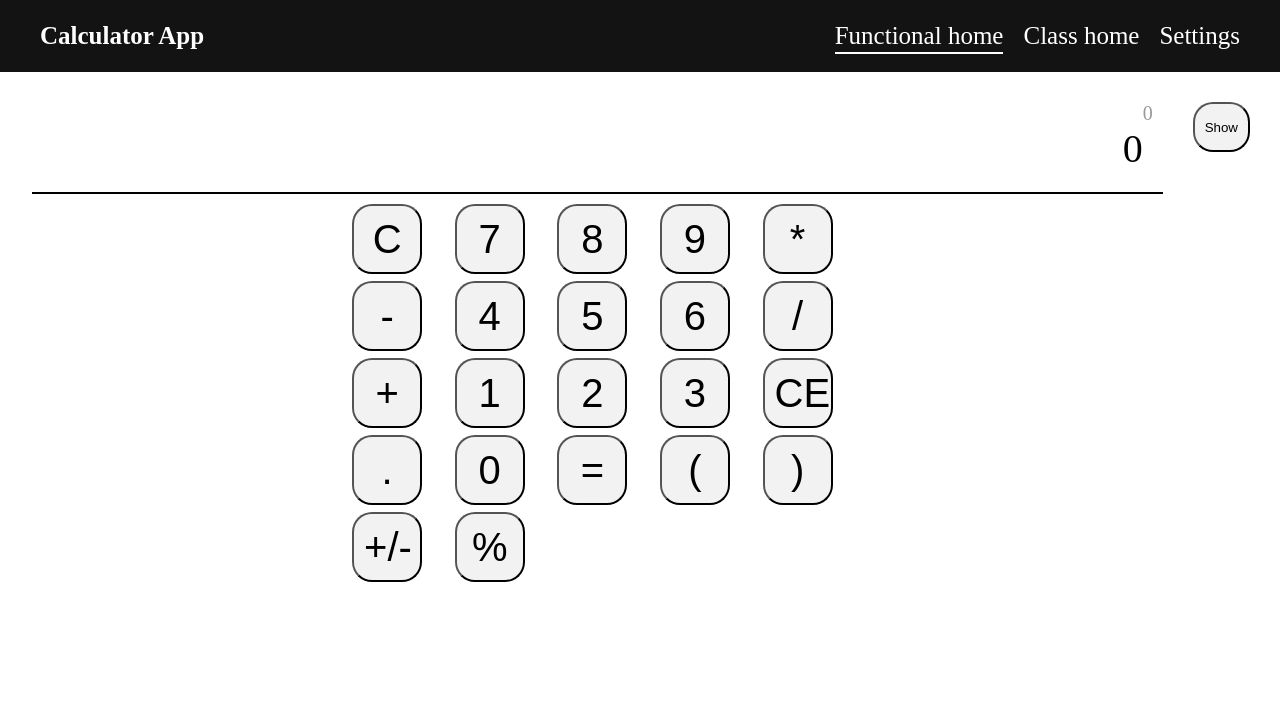
checkArithmetical › basicTestWithDivision
Click the button "3": (695, 393) [660,358,730,428]
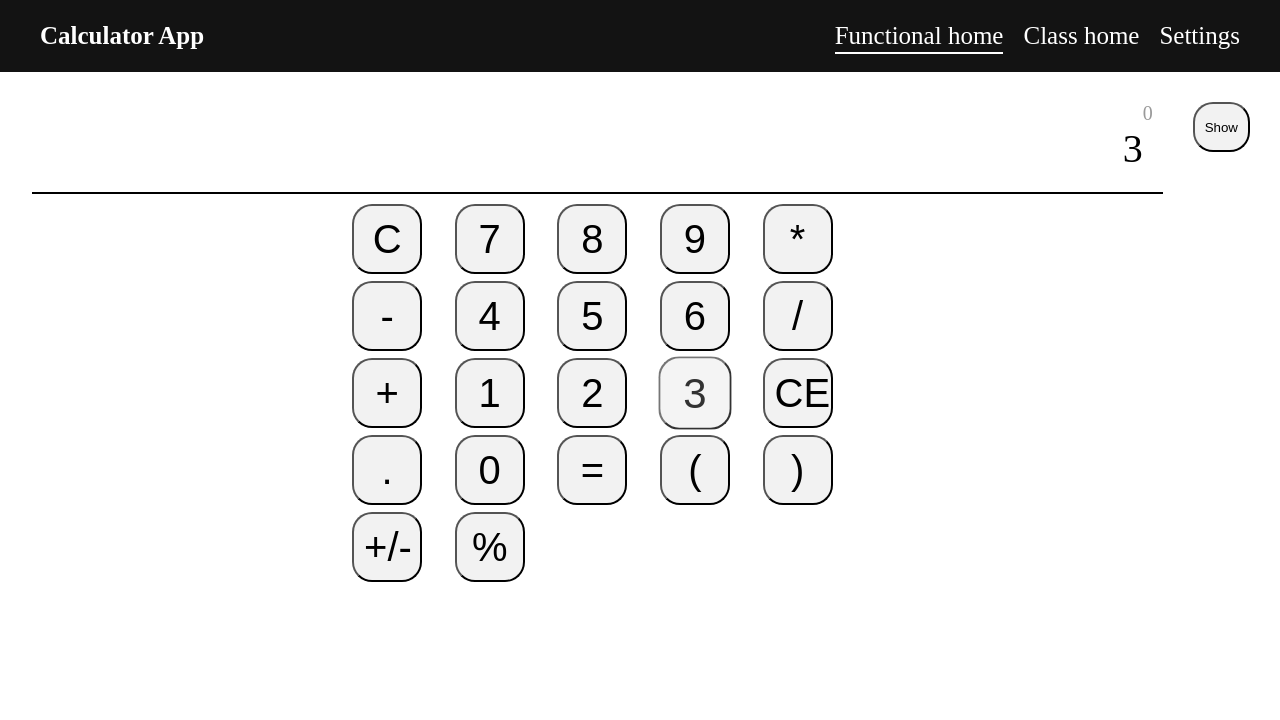
Click the button "/": (798, 316) [763,281,833,351]
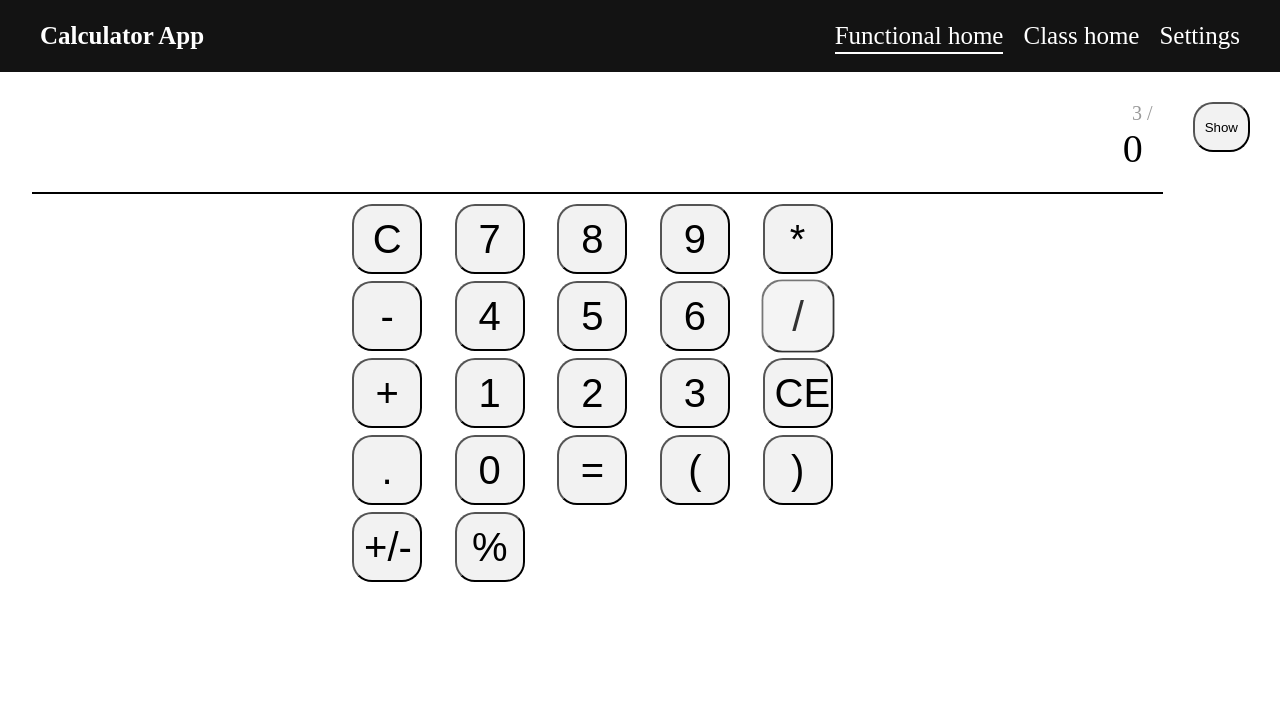
Click the button "2": (592, 393) [557,358,627,428]
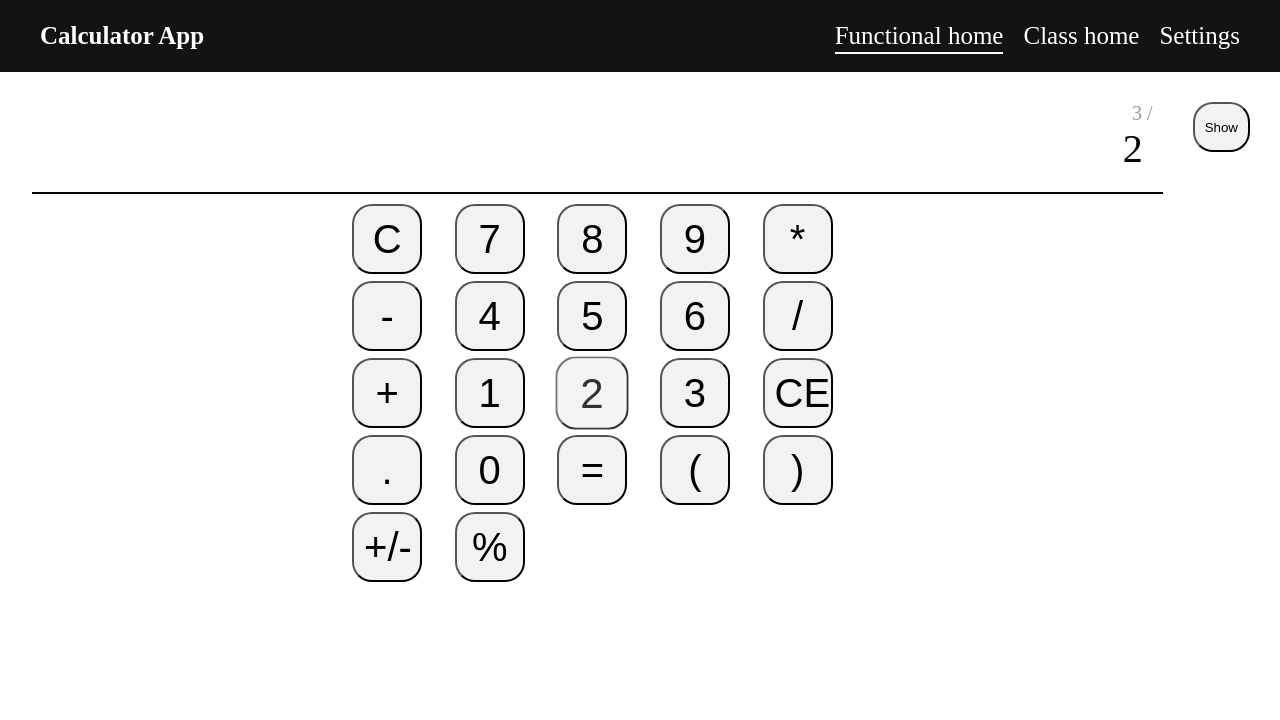
Click the button "=": (592, 470) [557,435,627,505]
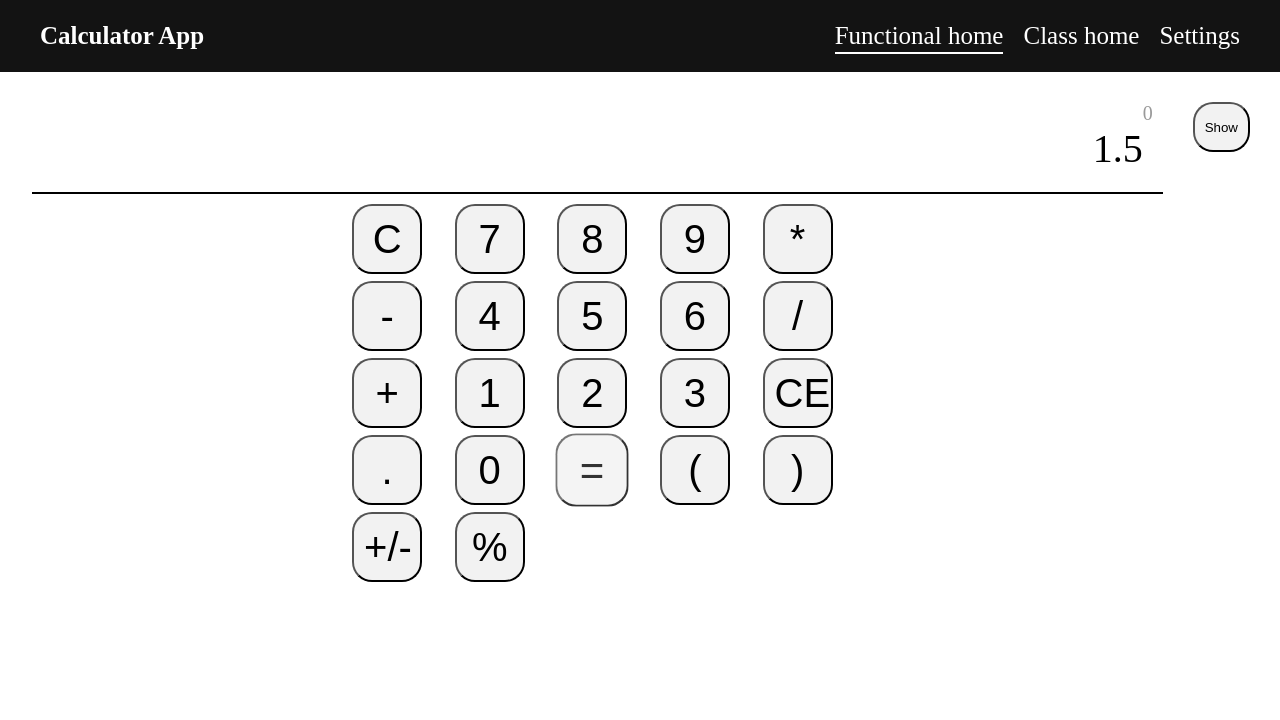
Result: the text with id "expression" reads "1.5" at [1093,126,1143,171]
